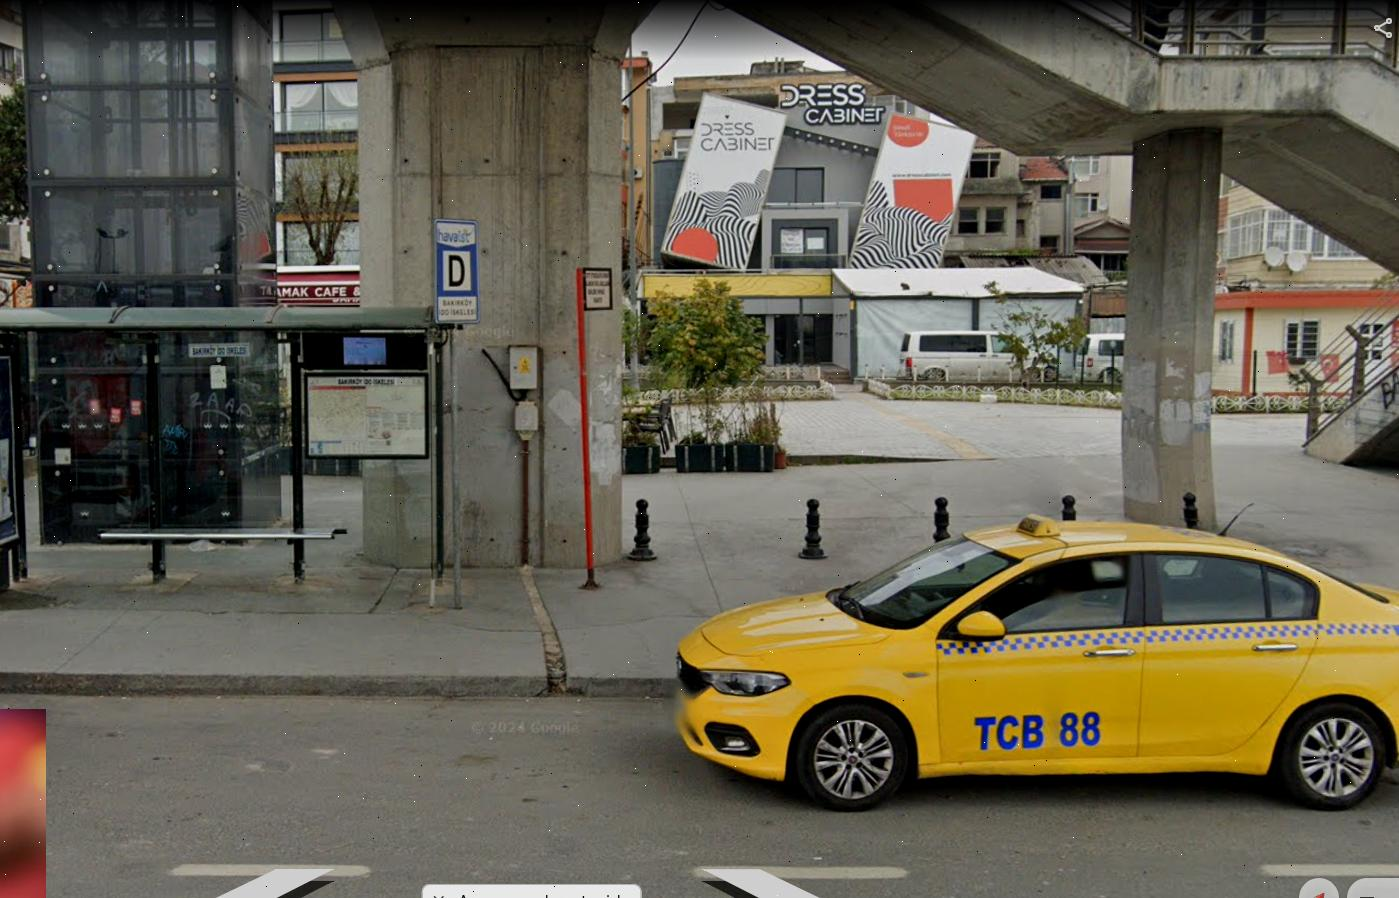station: (435, 248, 476, 293)
